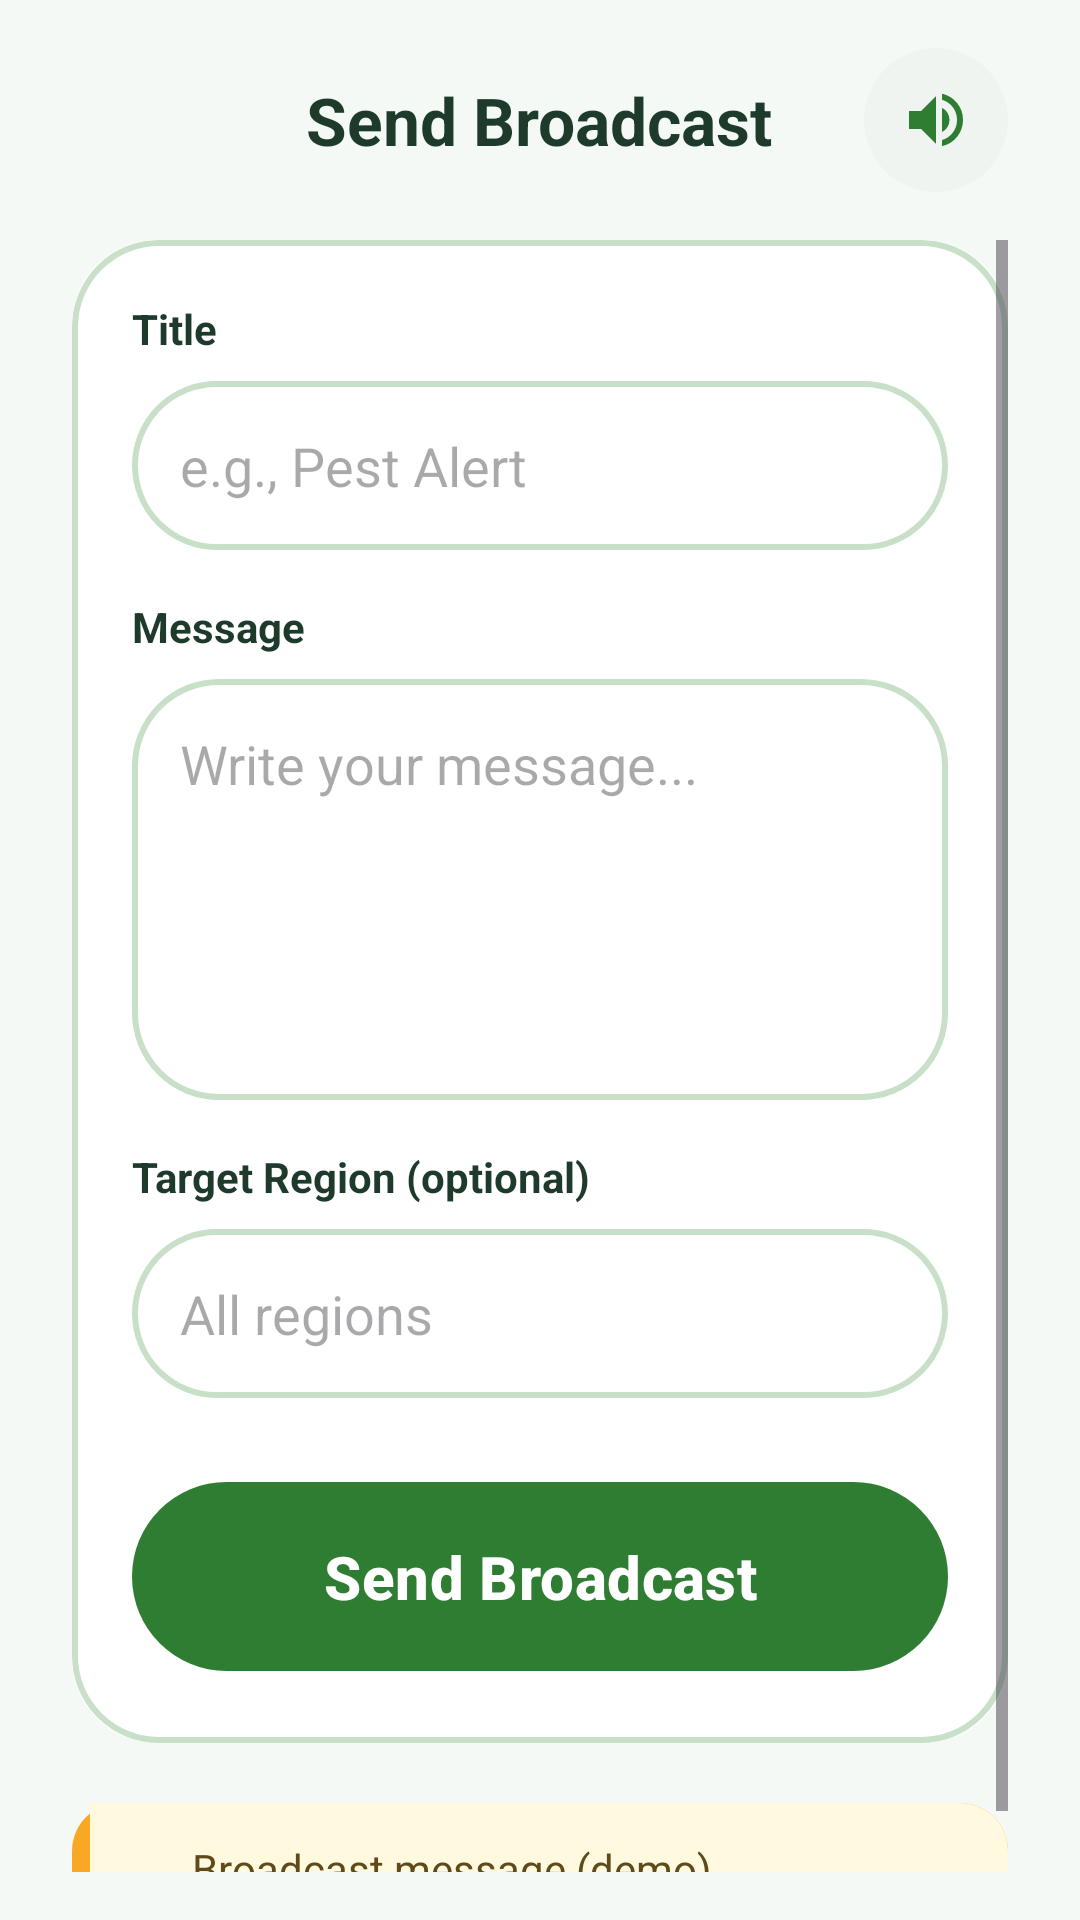

Named icons in this screenshot (1080w x 1920h) and their bounding boxes, bbox=[x1, y1, x2, y2]:
volume up: bbox=[909, 93, 963, 146]
